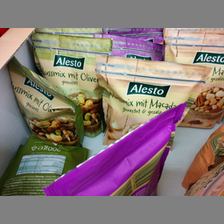nuts: (94, 55, 212, 145), (28, 33, 111, 138), (8, 56, 84, 146)
